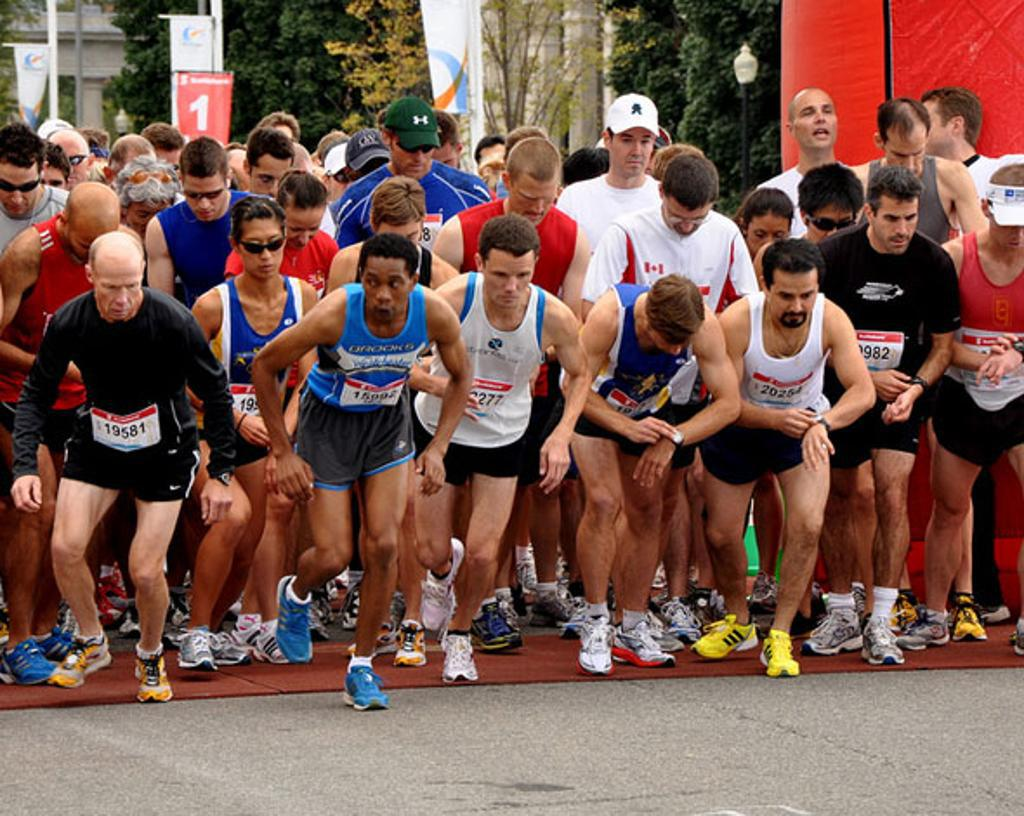face: (486, 245, 532, 310), (363, 258, 408, 324), (770, 271, 817, 330), (240, 218, 283, 280), (877, 194, 920, 254), (793, 88, 837, 146), (94, 271, 143, 321), (510, 172, 555, 221), (610, 128, 654, 178), (664, 196, 712, 239), (2, 164, 39, 217), (185, 176, 226, 223), (811, 209, 858, 249), (380, 217, 424, 258), (749, 217, 789, 260), (50, 131, 88, 174), (70, 230, 119, 263), (288, 204, 323, 249), (253, 156, 290, 198), (924, 100, 953, 152), (887, 140, 926, 178), (990, 213, 1022, 258), (392, 136, 427, 176), (128, 201, 163, 237), (429, 138, 461, 173), (651, 334, 697, 358), (329, 168, 359, 204), (481, 148, 506, 189), (158, 149, 182, 186), (42, 167, 66, 201), (915, 147, 926, 148)
